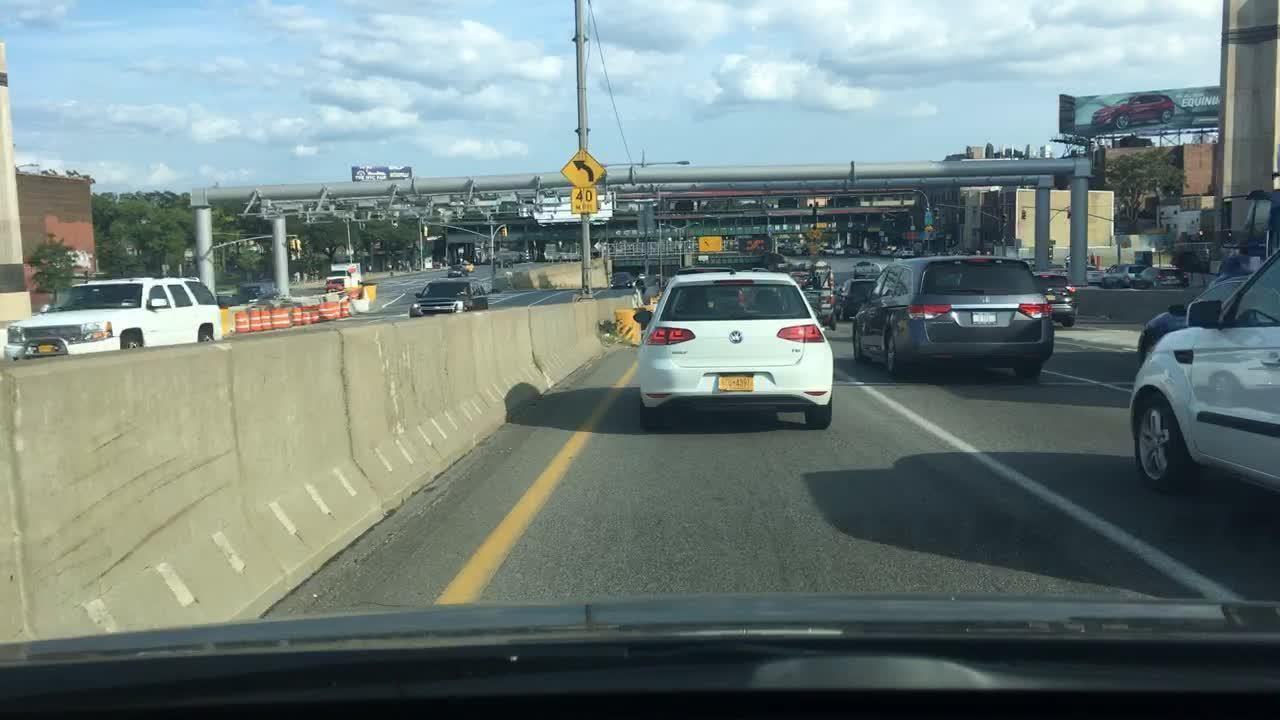Volkswagen: (727, 329, 746, 345)
